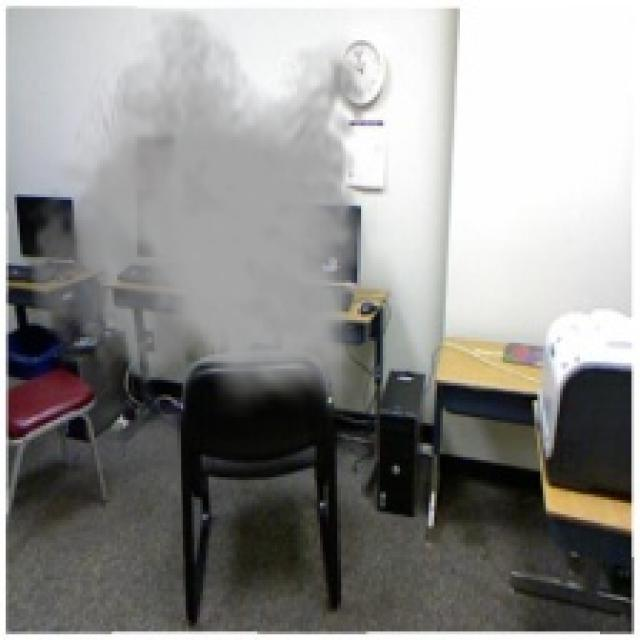smoke: (26, 12, 377, 417)
